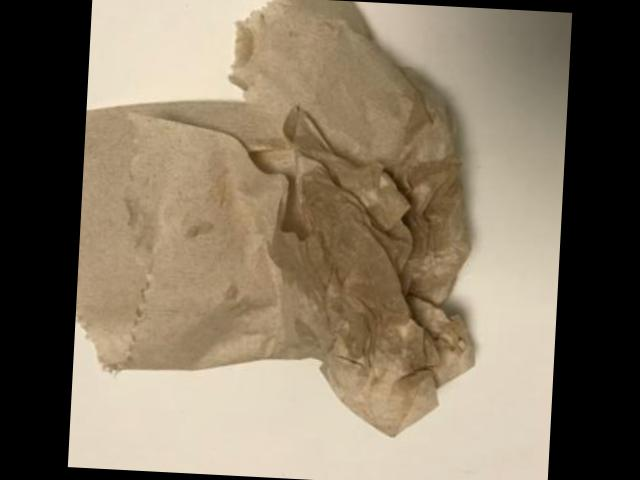cardboard paper: (75, 0, 471, 436)
